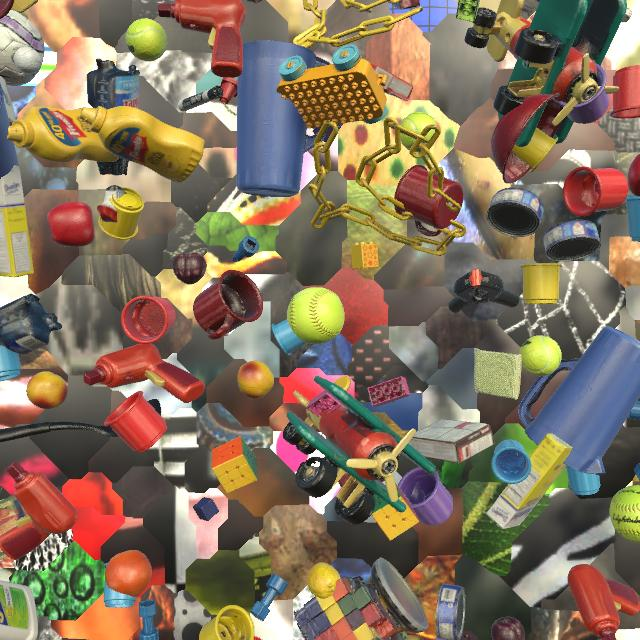ycb_004_sugar_box: (486, 433, 572, 529), (0, 165, 34, 277), (0, 76, 16, 126), (520, 0, 540, 20)
ycb_006_mustard_bottle: (79, 106, 205, 183), (7, 106, 119, 162)
ycb_007_tuna_fish_can: (486, 187, 544, 237), (543, 220, 601, 262), (436, 583, 466, 640)
ycb_008_pudding_box: (409, 419, 495, 464), (392, 0, 420, 10), (247, 0, 262, 3)
ycb_009_gelatin_box: (371, 64, 413, 101)
ycb_010_potted_meat_can: (0, 495, 26, 560)
ycb_013_apple: (47, 201, 95, 247), (627, 154, 640, 197)
ycb_014_lemon: (306, 562, 340, 599)
ycb_015_peach: (26, 371, 68, 409), (237, 361, 274, 399)
ycb_017_orange: (105, 550, 152, 597)
ycb_018_plum: (172, 253, 207, 285), (491, 617, 525, 640)
